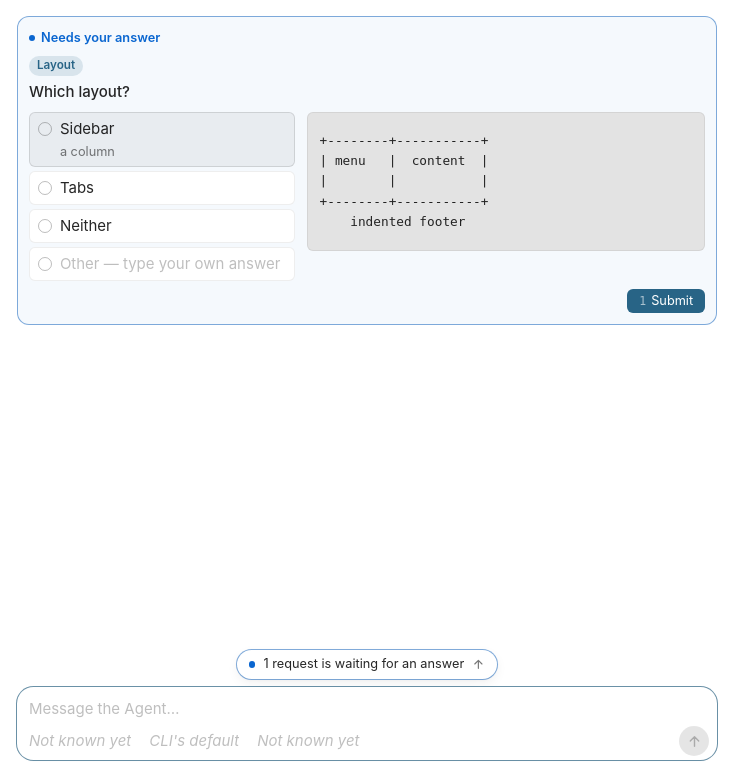
Test: a question whose options carry previews › follows the option pointed at, and the one the keyboard is on
Hover over the radio button labelled "Tabs" at (77, 188), box [29,171,295,205]
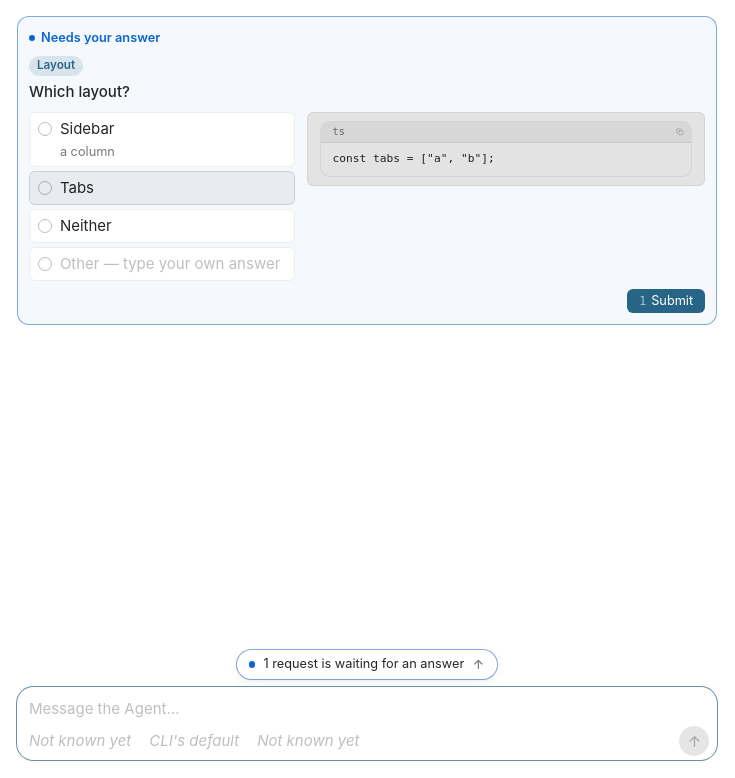
Check: the text "const tabs = [\"a\", \"b\"];" is shown, box [333,152,495,165]
Move the pointer off the radio button labelled "Tabs", box [29,171,295,205]
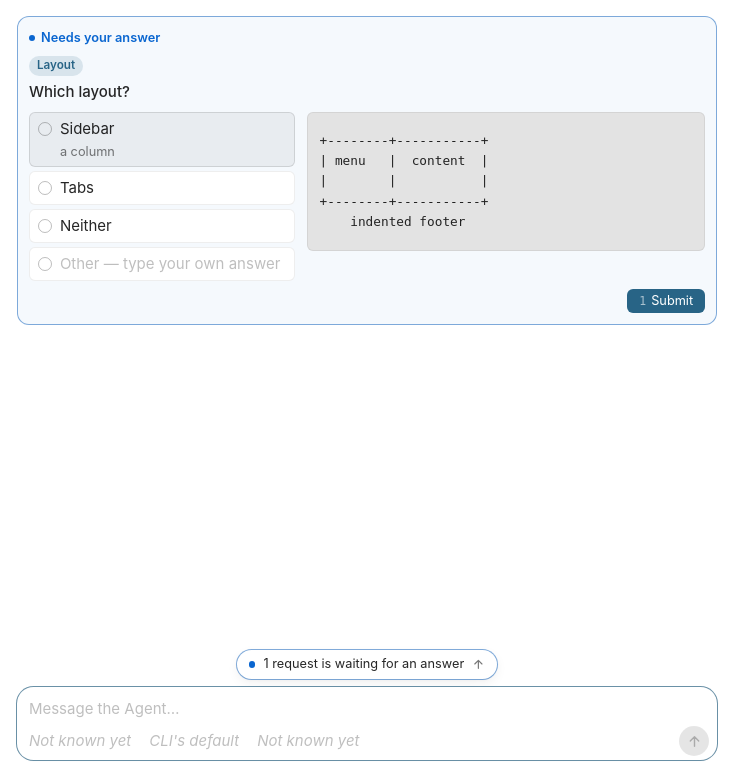
Focus the radio button labelled "Neither" at (86, 226), box [29,209,295,243]
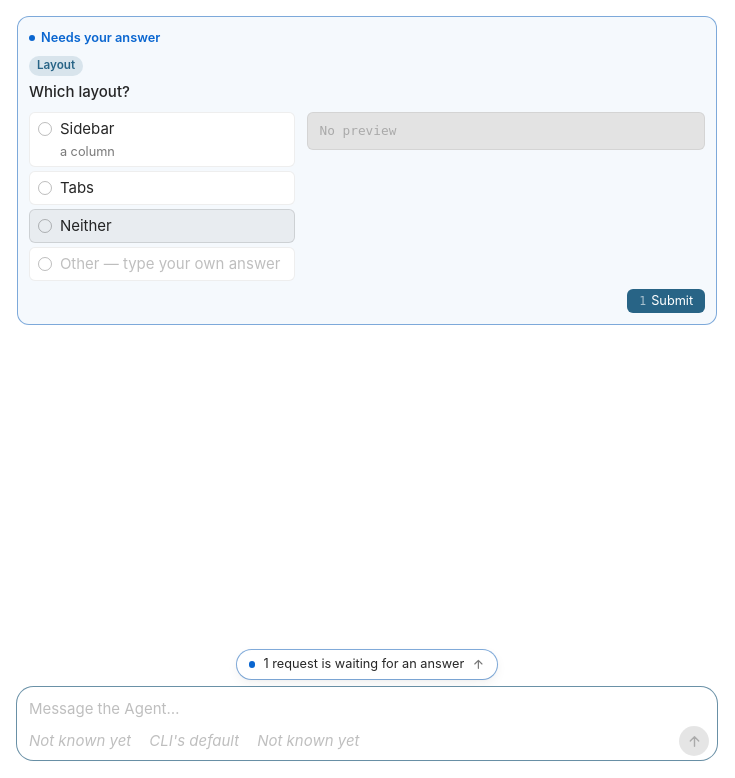
Check: the element named "Preview: " reads "No preview", box [320,123,396,138]
